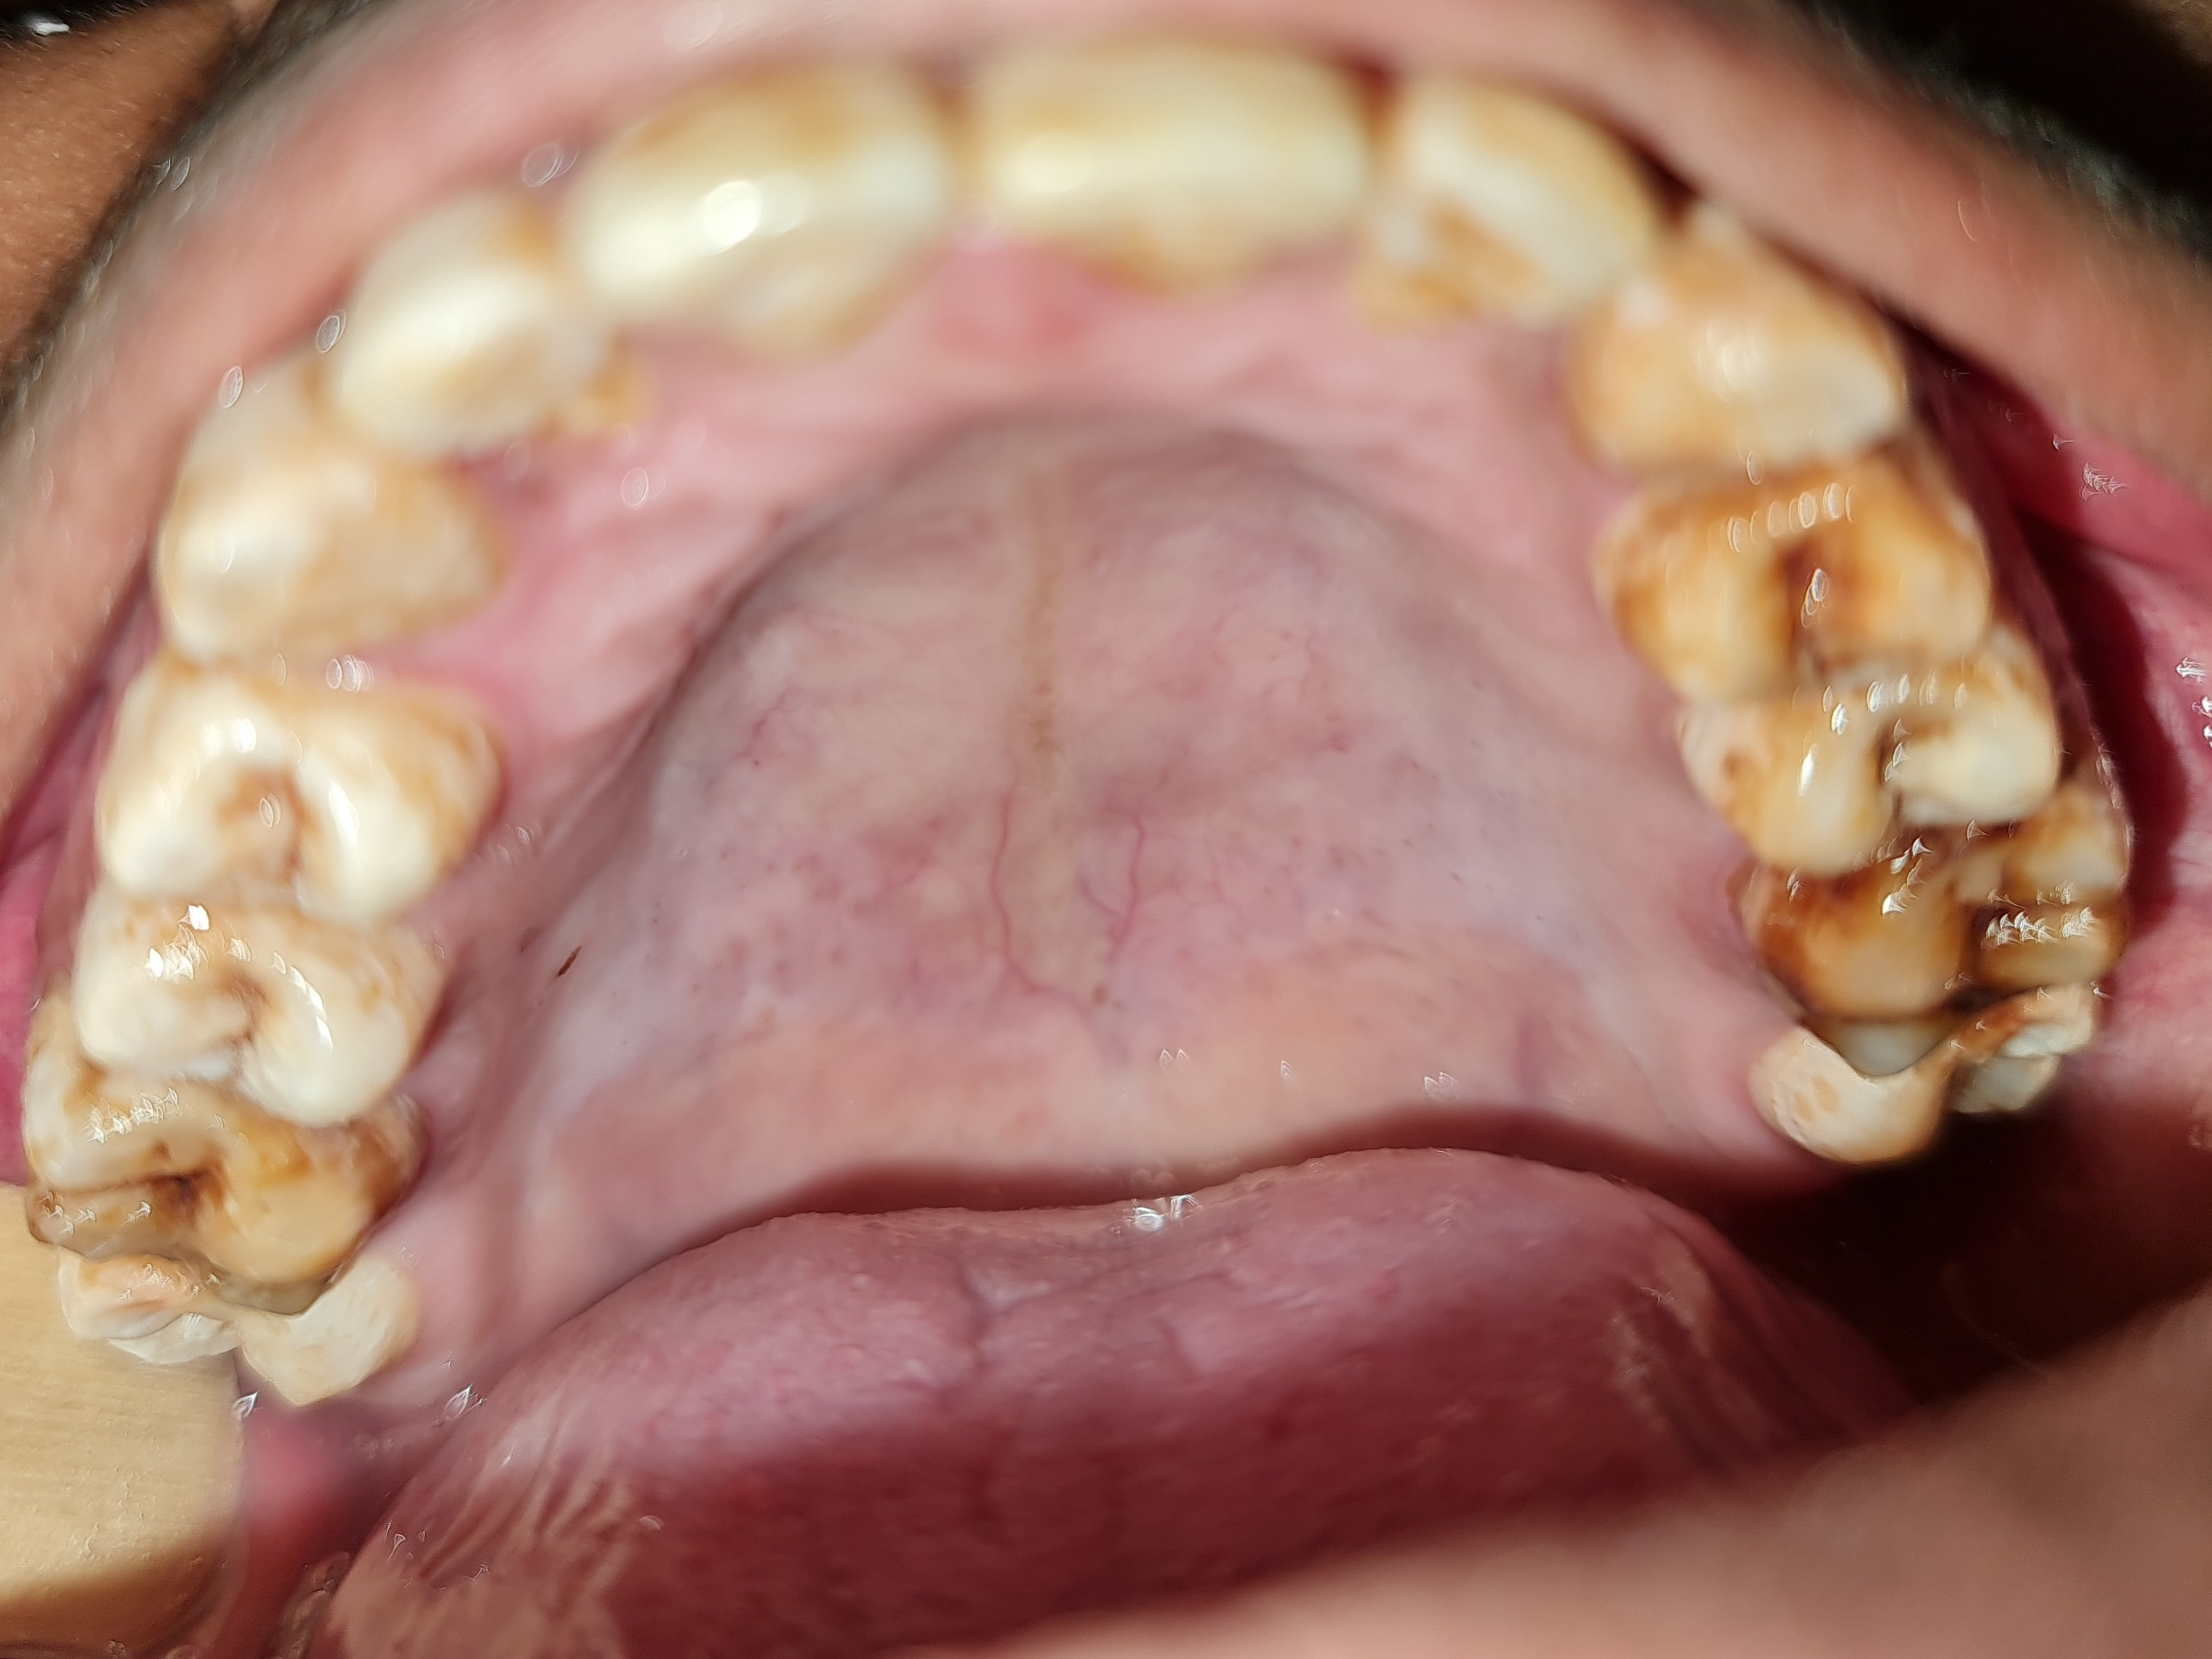D: (21, 999, 446, 1319), (1744, 789, 2140, 1079), (1666, 614, 2082, 869)
